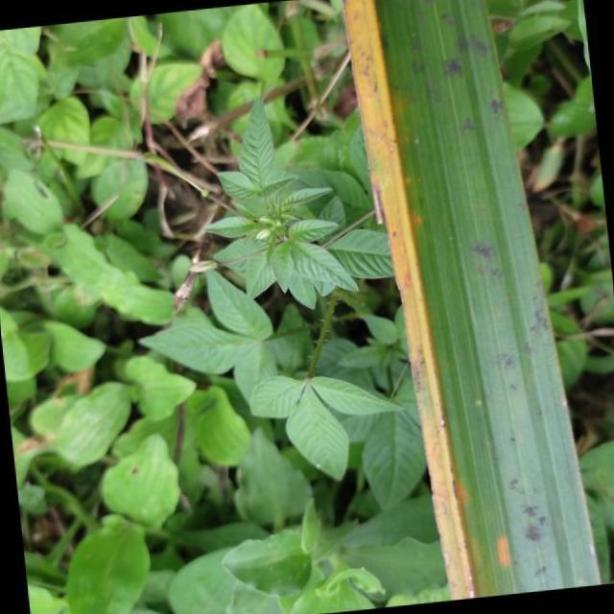Megnesium: (345, 0, 606, 603)
